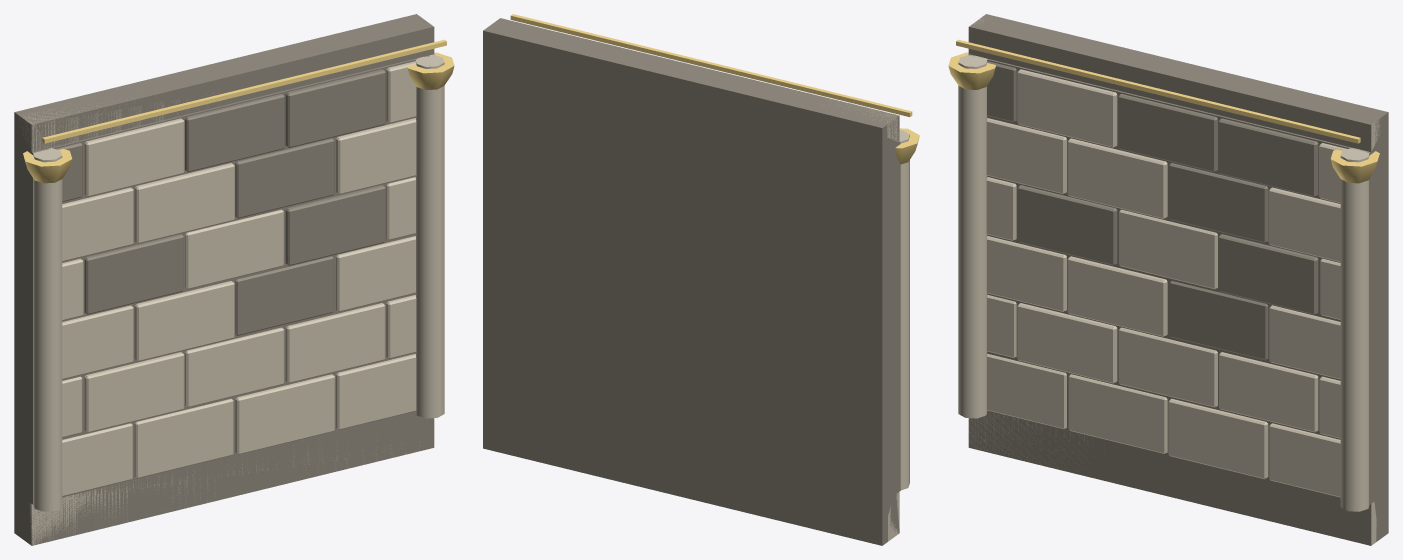
Rendered from wall_bb_stone.glb.
The picture shows the model from 3 angles, left to right: view 1: azimuth 30°, elevation 25°; view 2: azimuth 150°, elevation 25°; view 3: azimuth 330°, elevation 25°; orthographic projection.
Parts seen in each view (by area): view 1: wall_bb_stone; view 2: wall_bb_stone; view 3: wall_bb_stone.
Boxes of the visible parts, x1,y1,x2,y2 form: wall_bb_stone: (14,14,454,545); wall_bb_stone: (483,14,919,545); wall_bb_stone: (948,14,1388,545).
Bounding box in the file's own units: 4.24 × 4 × 0.62.
